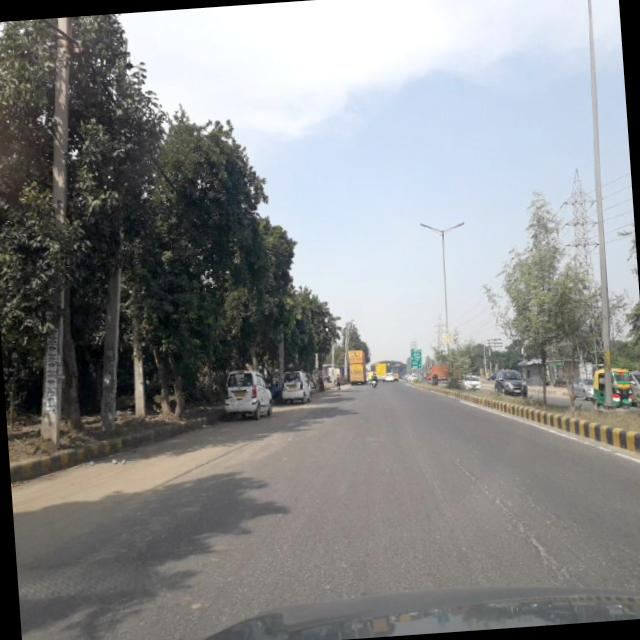crack: (441, 435, 535, 517), (514, 508, 584, 588)
